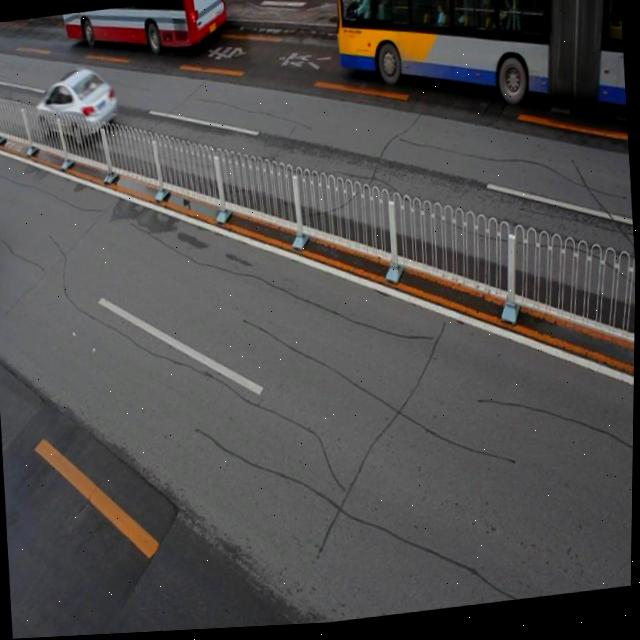car: (34, 65, 119, 147)
van: (330, 0, 628, 144), (60, 0, 225, 67)
